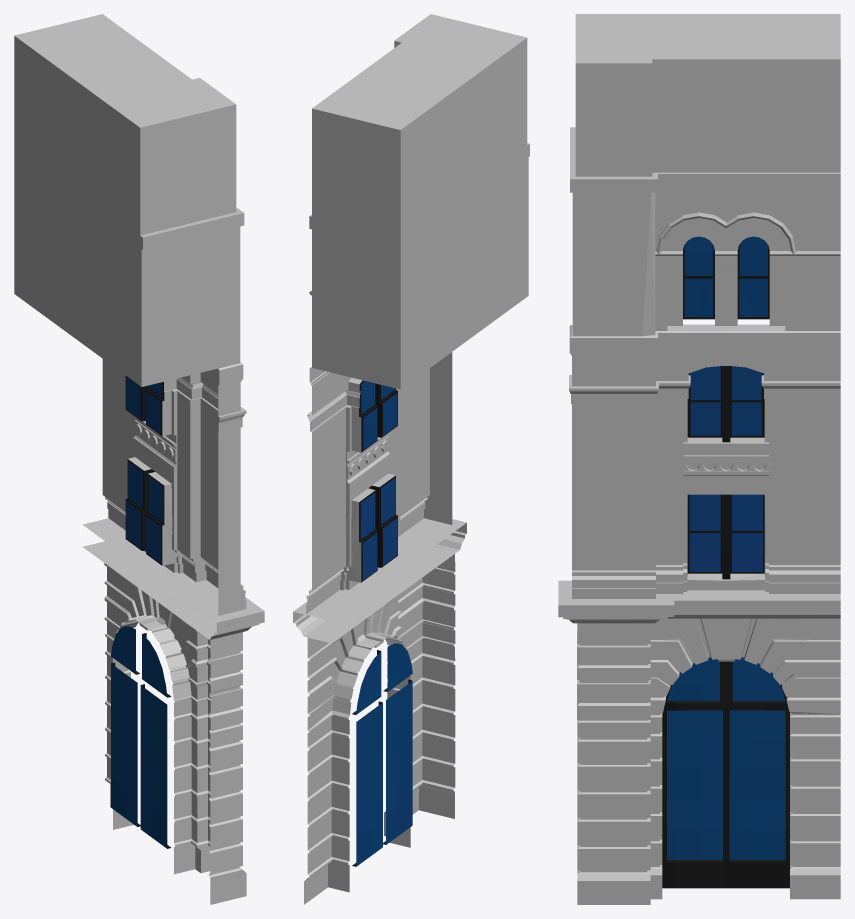
File: Building_Brick03.fbx
3 renders of one model, left to right at view 1: azimuth 30°, elevation 25°; view 2: azimuth 150°, elevation 25°; view 3: azimuth 270°, elevation 25°, orthographic. The views are drawn at different scales.
Visible parts, largest first — view 1: SM_City_Building_Brick_02a.mo; view 2: SM_City_Building_Brick_02a.mo; view 3: SM_City_Building_Brick_02a.mo.
Boxes of the visible parts, x1,y1,x2,y2 form: SM_City_Building_Brick_02a.mo: [14, 14, 264, 904]; SM_City_Building_Brick_02a.mo: [293, 14, 529, 904]; SM_City_Building_Brick_02a.mo: [558, 14, 840, 904].
Bounding box in the file's own units: 280 × 1828 × 560.
